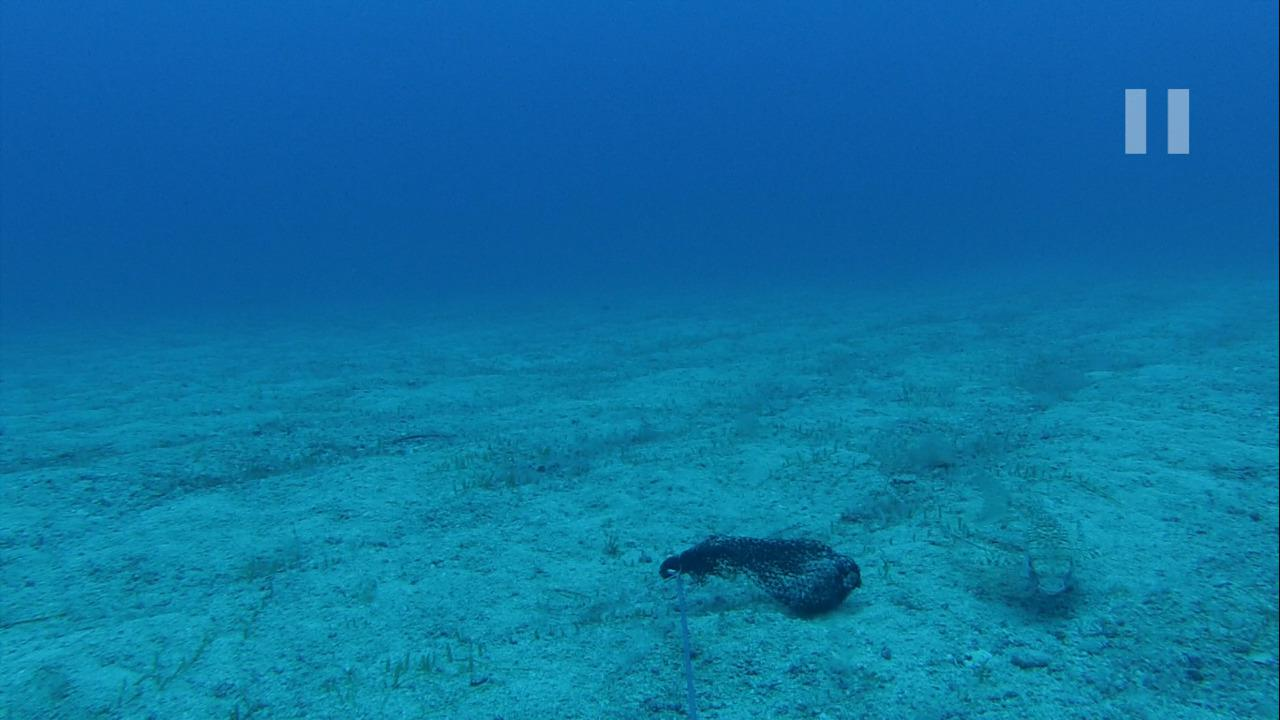dactylopterus: (914, 467, 1091, 614)
